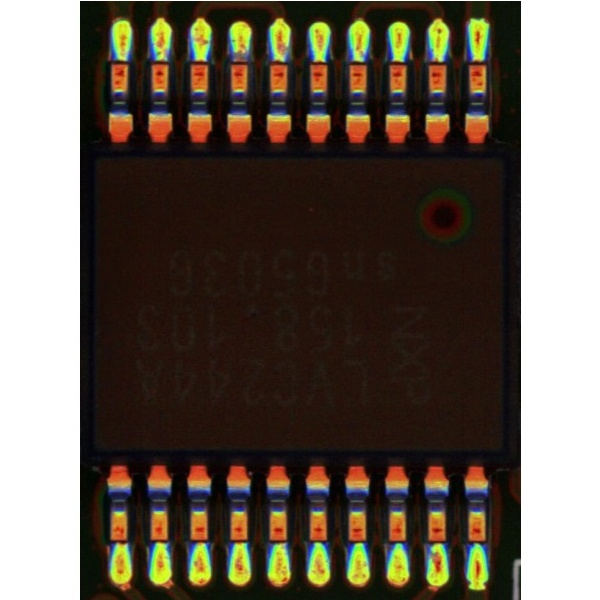Bad_podu: (232, 45, 245, 73)
